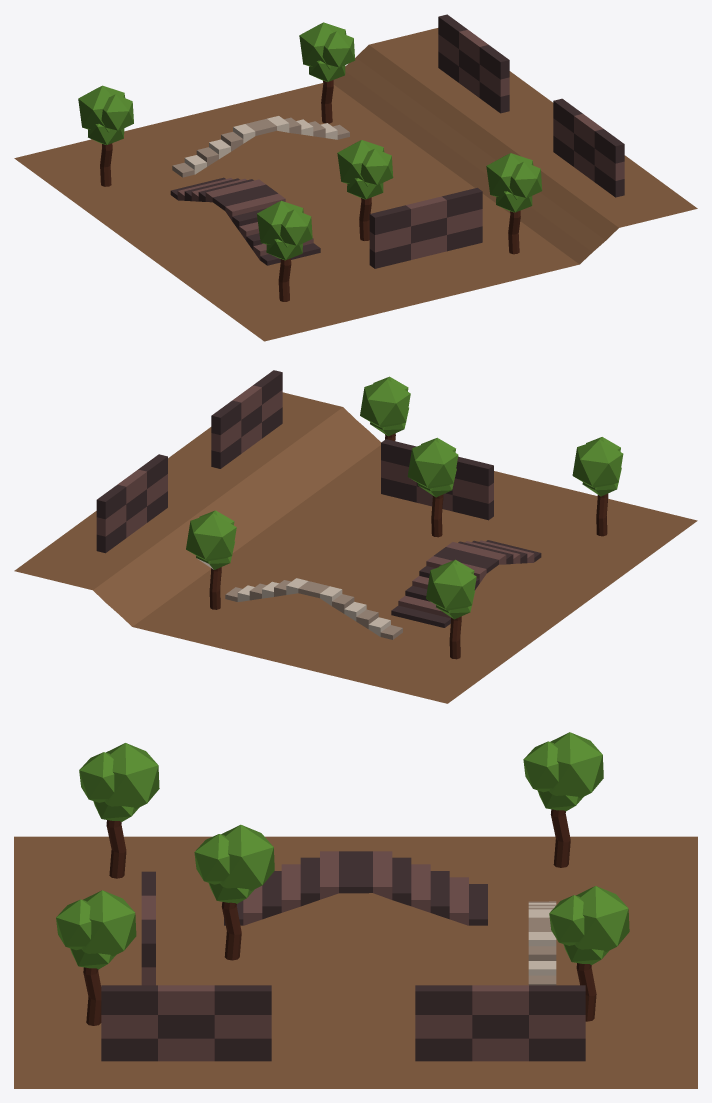
The model's file is prototype_world.glb.
3 views of the same model, one above another, from view 1: azimuth 30°, elevation 25°; view 2: azimuth 150°, elevation 25°; view 3: azimuth 270°, elevation 25° (orthographic). The views are drawn at different scales.
Visible parts, largest first — view 1: Plane; view 2: Plane; view 3: Plane.
Boxes of the visible parts, x1=… form: Plane: x1=14, y1=14, x2=697, y2=341; Plane: x1=14, y1=370, x2=697, y2=703; Plane: x1=14, y1=732, x2=697, y2=1088.
Bounding box in the file's own units: 95.8 × 20.66 × 95.8.
Materials: 1 (1 with a texture image).
